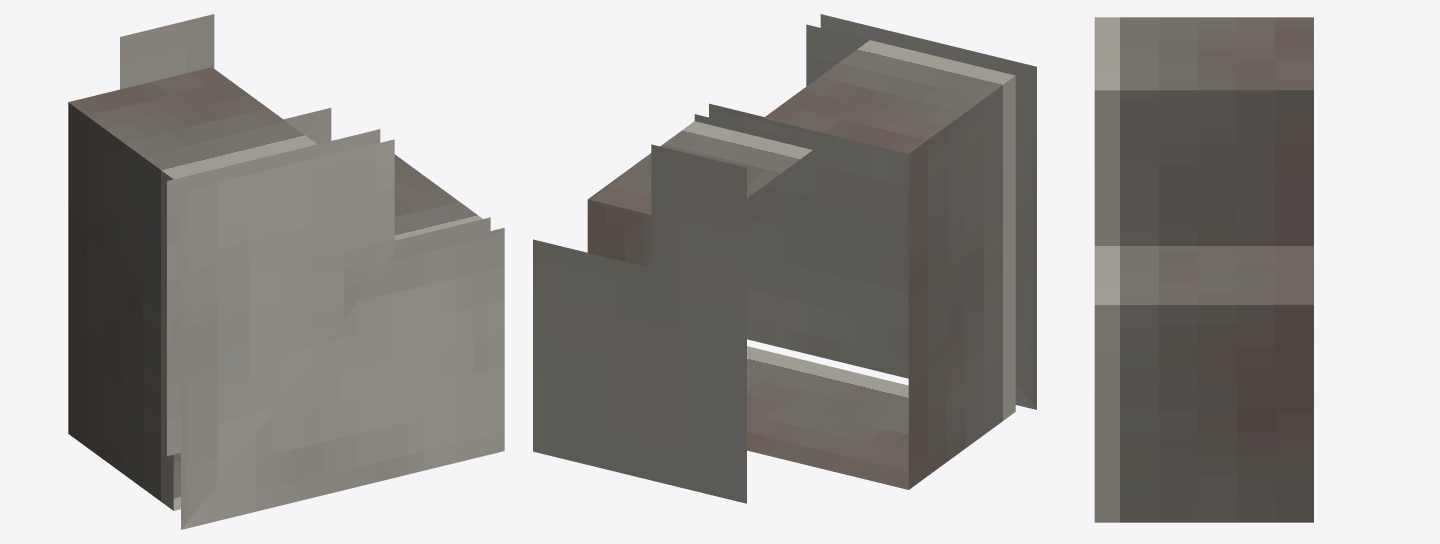
The picture shows the model from 3 angles, left to right: view 1: azimuth 30°, elevation 25°; view 2: azimuth 150°, elevation 25°; view 3: azimuth 270°, elevation 25°; orthographic projection. The views are drawn at different scales.
Size of the model in its own units: 0.9382 by 0.9382 by 0.8713.
